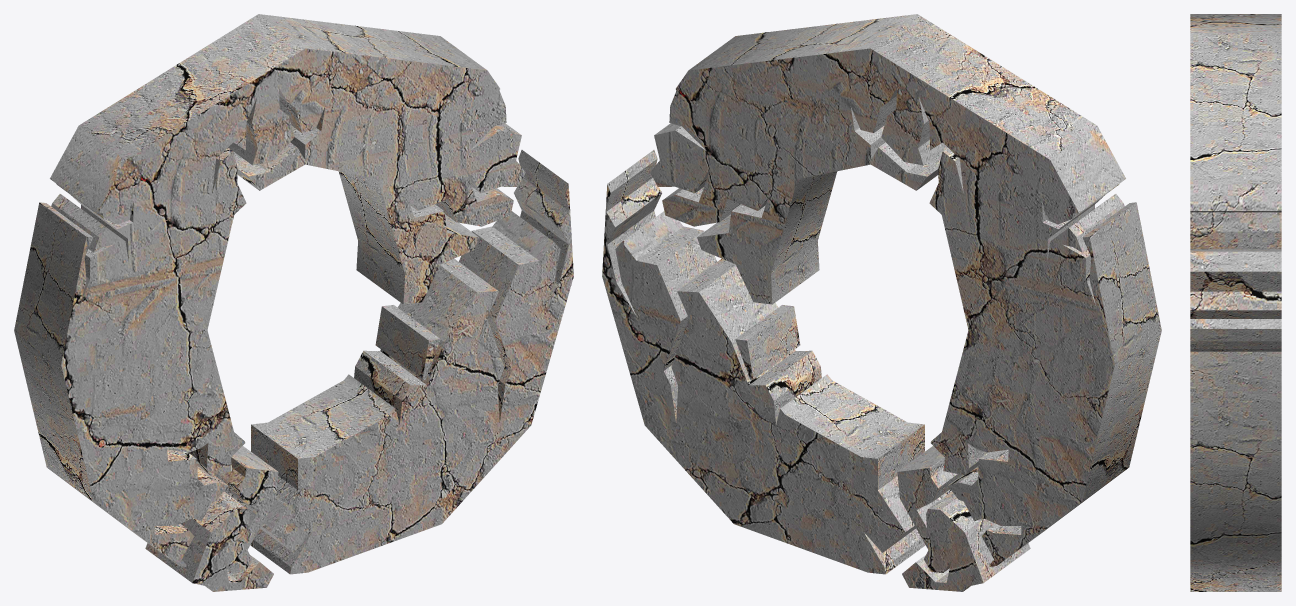
The picture shows the model from 3 angles, left to right: view 1: azimuth 30°, elevation 25°; view 2: azimuth 150°, elevation 25°; view 3: azimuth 270°, elevation 25°; orthographic projection. The views are drawn at different scales.
Visible parts, largest first — view 1: O; view 2: O; view 3: O.
Boxes of the visible parts, <box> form: O: <box>14,14,573,591</box>; O: <box>602,14,1161,591</box>; O: <box>1190,14,1281,591</box>.
Size of the model in its own units: 94.43 by 93.26 by 15.
1 material, 1 textured.
